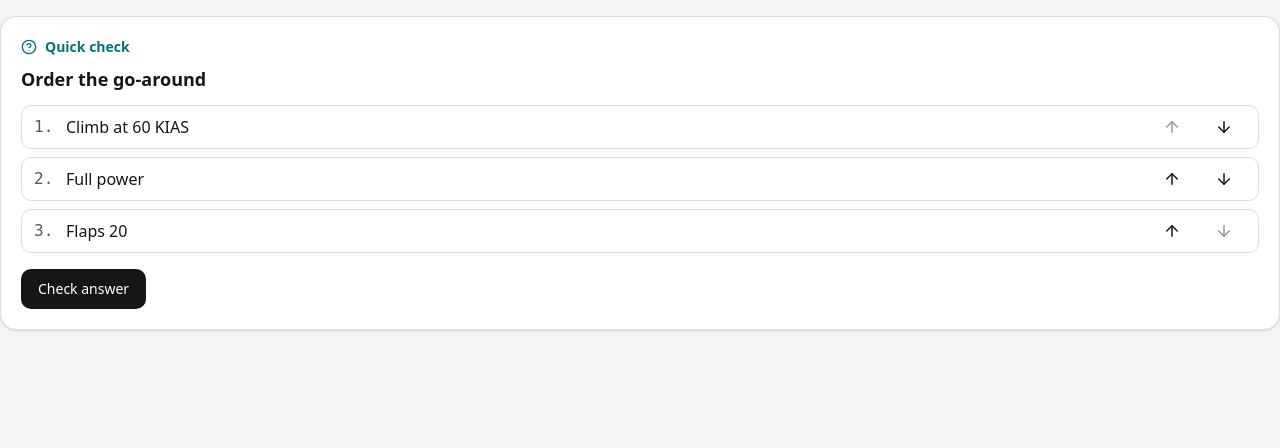
Test case: QuizBlock › reorders steps with buttons
Click the button named "Move \"Full power\" up". click: (1172,179)
box: [1150,163,1194,195]
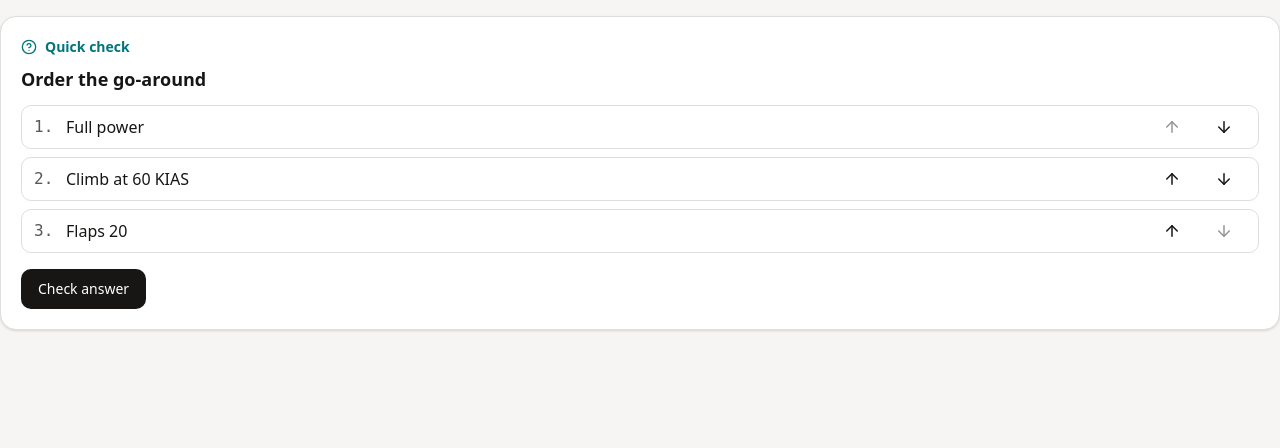
Click the button named "Move \"Flaps 20\" up". click: (1172,231)
box: [1150,215,1194,247]
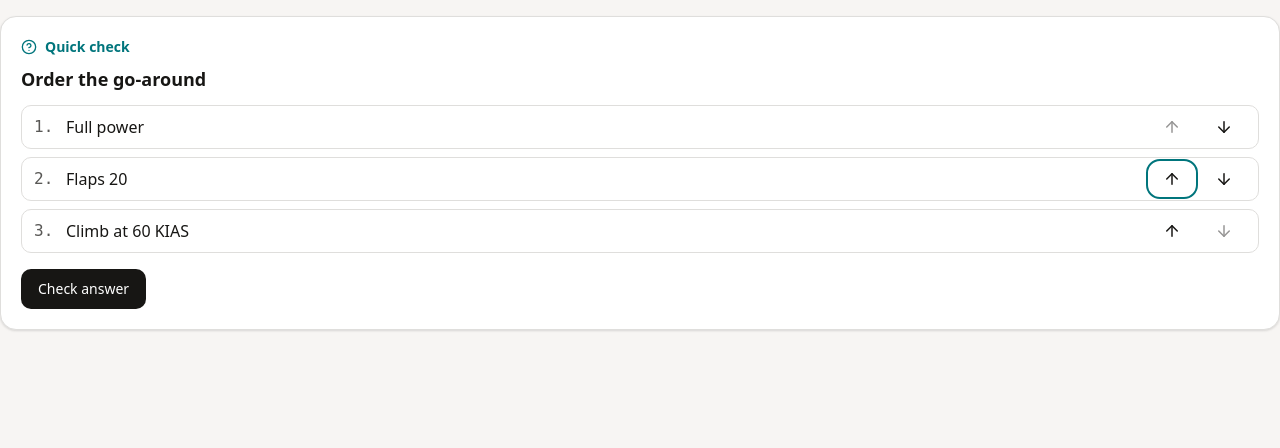
Click the button "Check answer". click: (84,289)
box: [21,269,146,309]
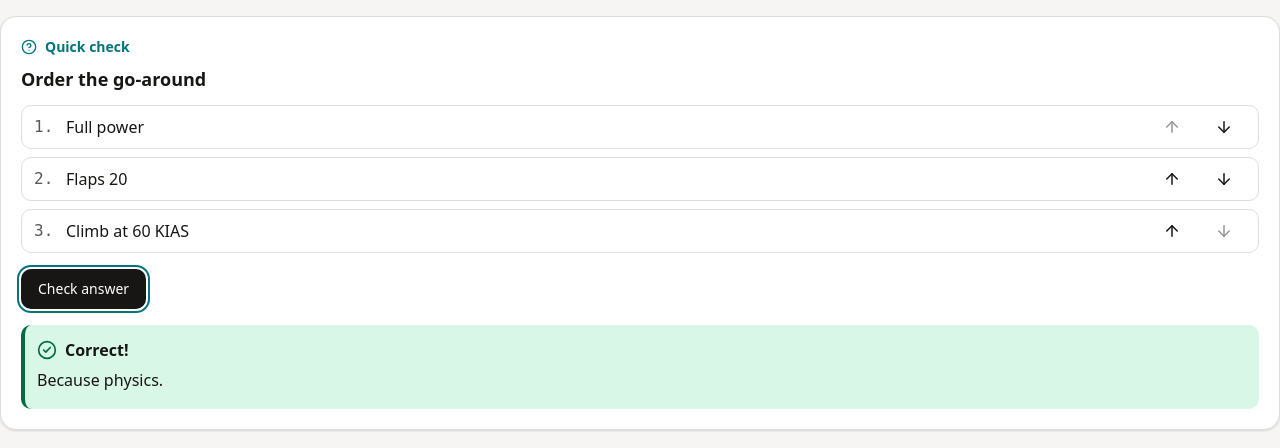
Now the text "Correct!" is shown, box [37,339,128,361]
